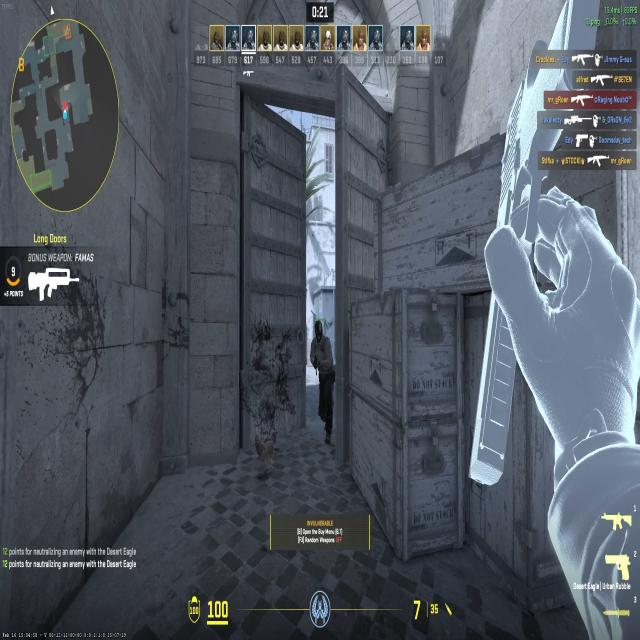player: (306, 317, 342, 444)
